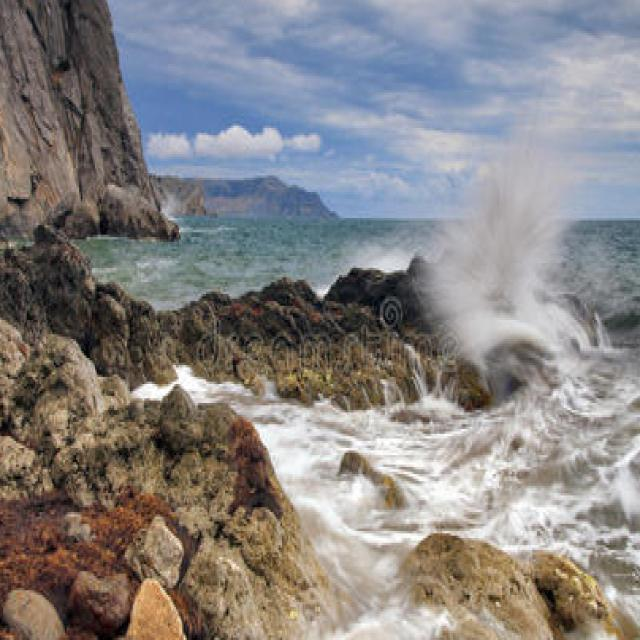reef: (341, 443, 629, 640)
